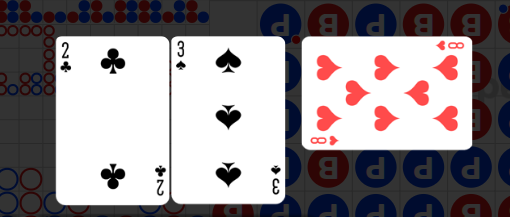2C: (59, 41, 73, 76)
3S: (269, 163, 282, 196)
8H: (434, 40, 465, 53)
